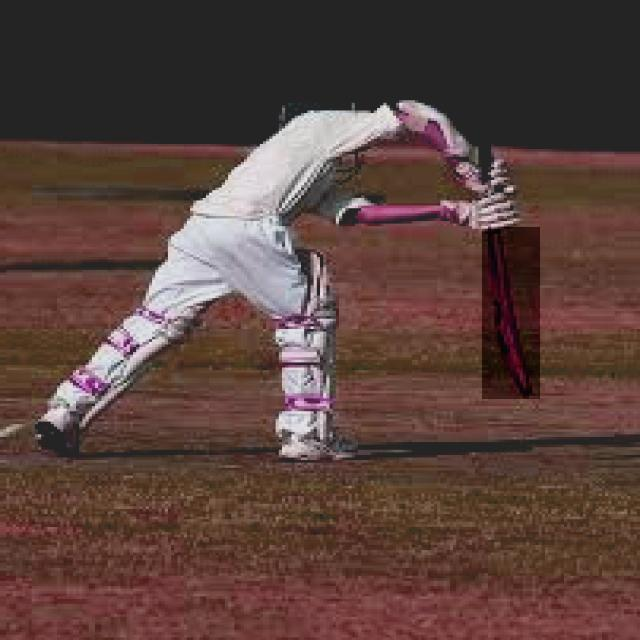bat: (485, 224, 540, 402)
toe: (504, 378, 540, 400)
